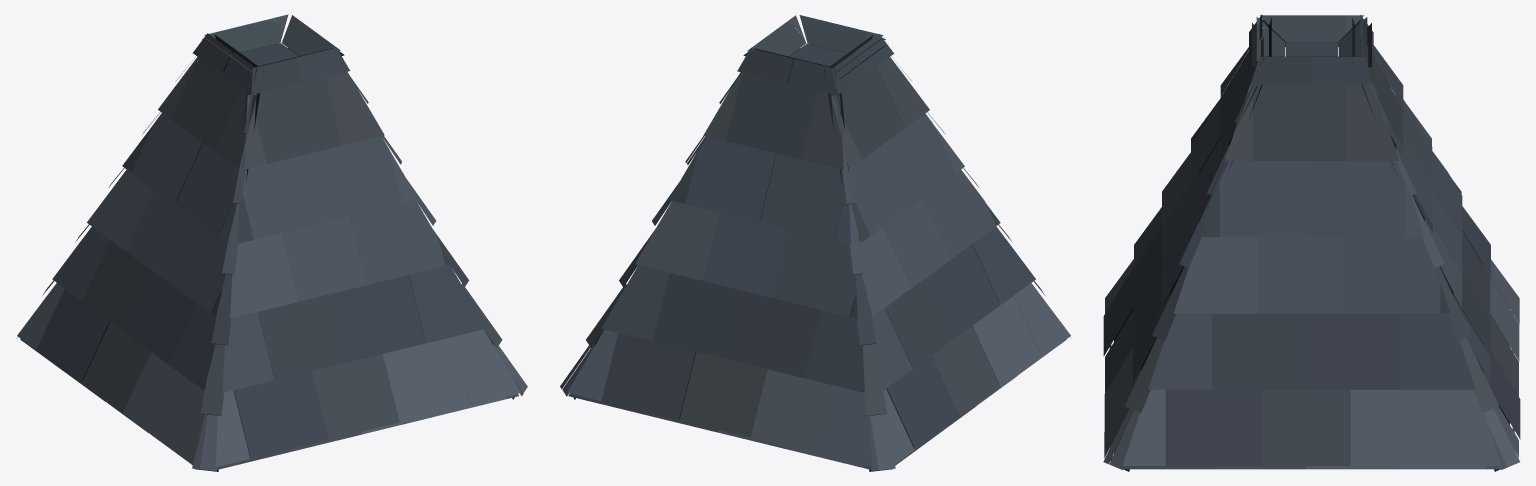
The model's file is roof-high-point-slate.glb.
The picture shows the model from 3 angles, left to right: view 1: azimuth 30°, elevation 25°; view 2: azimuth 150°, elevation 25°; view 3: azimuth 270°, elevation 25°; orthographic projection. The views are drawn at different scales.
Parts seen in each view (by area): view 1: roof-high-point-slate; view 2: roof-high-point-slate; view 3: roof-high-point-slate.
Boxes of the visible parts, box(x1,y1,x2,y2) form: roof-high-point-slate: box(17, 14, 527, 471); roof-high-point-slate: box(560, 15, 1070, 471); roof-high-point-slate: box(1103, 14, 1520, 471).
Size of the model in its own units: 1.1 by 1.01 by 1.1.
